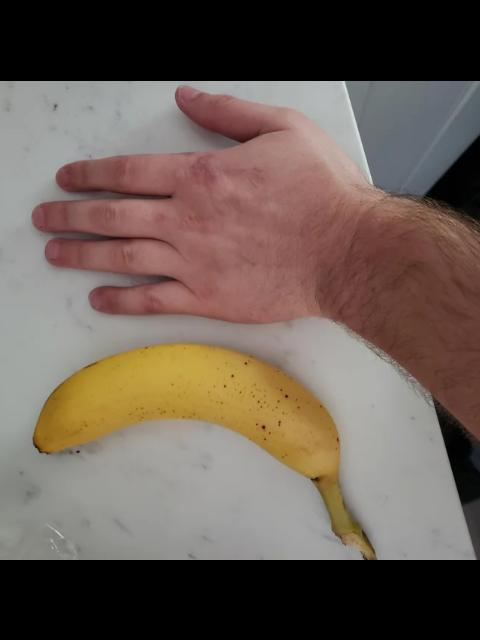Bananas: (31, 344, 380, 556)
